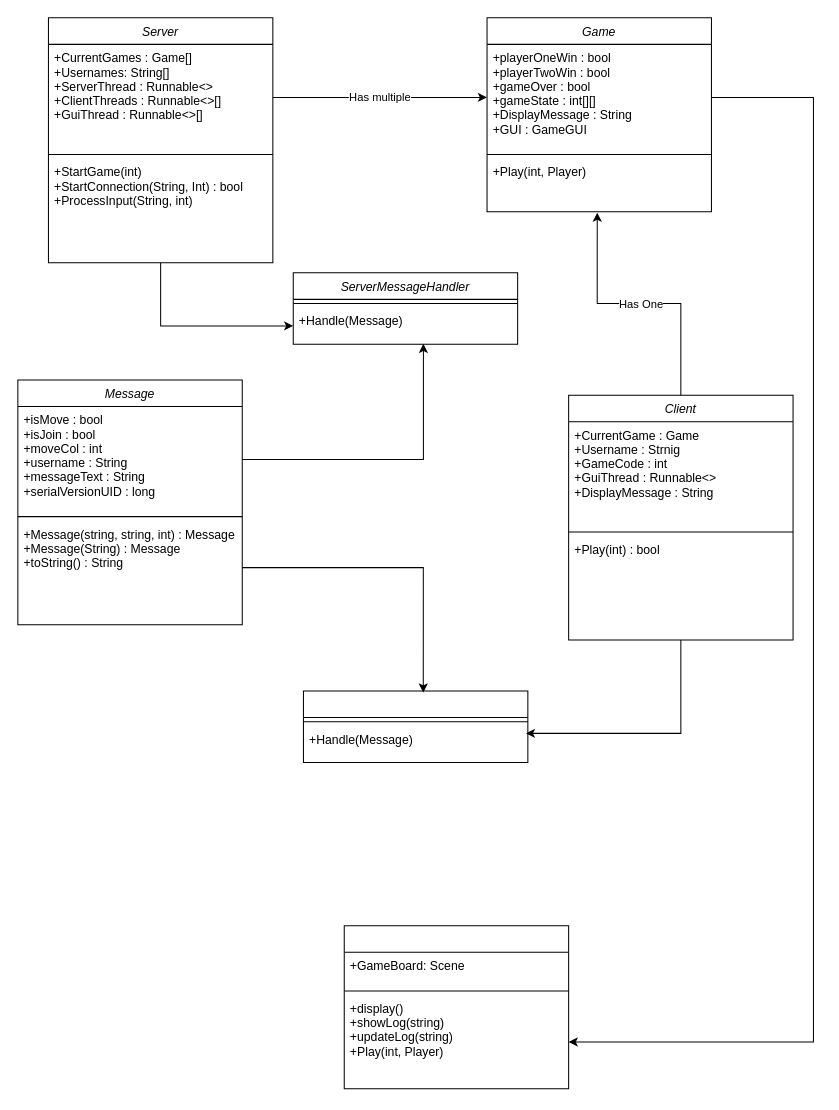
Image size: 839x1110. Some labels were removed from this diagram. Each missing label, with the box of its shape:
ClientMessageHandler: (302, 690, 528, 762)
GameGUI: (343, 925, 569, 1089)
